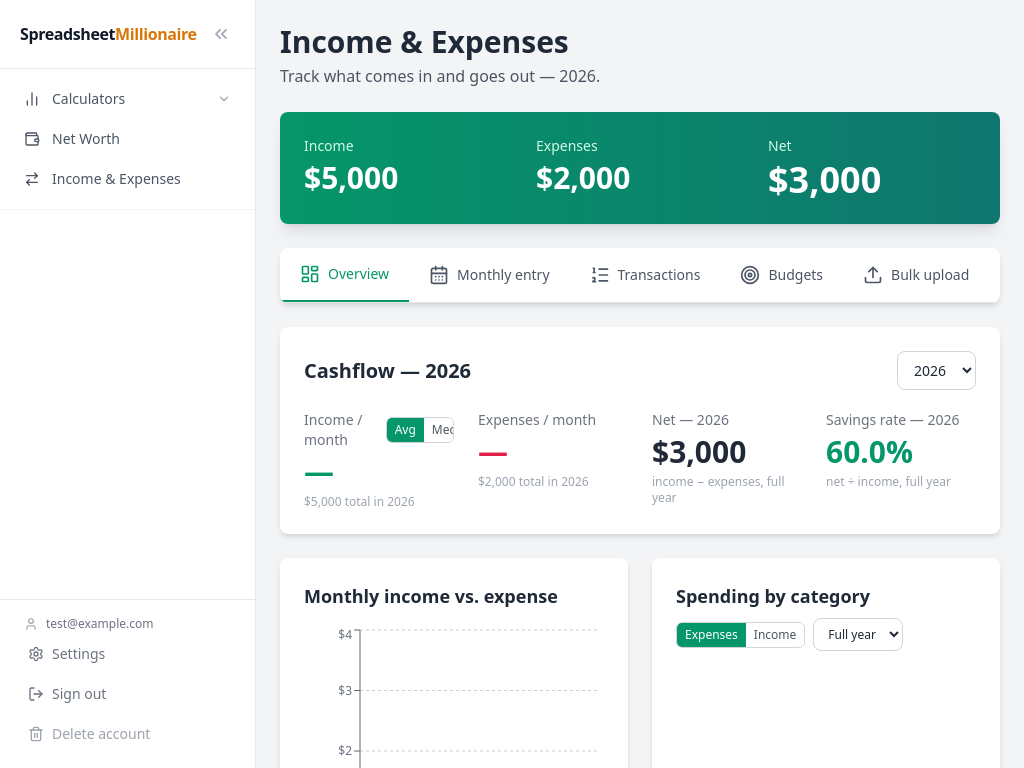
Test: IncomeExpensePage › switches to the Budgets tab and shows the coming-soon teaser
What coordinates should you click on to do the following:
click the button "Budgets"
I would click on:
 (782, 275)
Its box is [720,248,843,302].
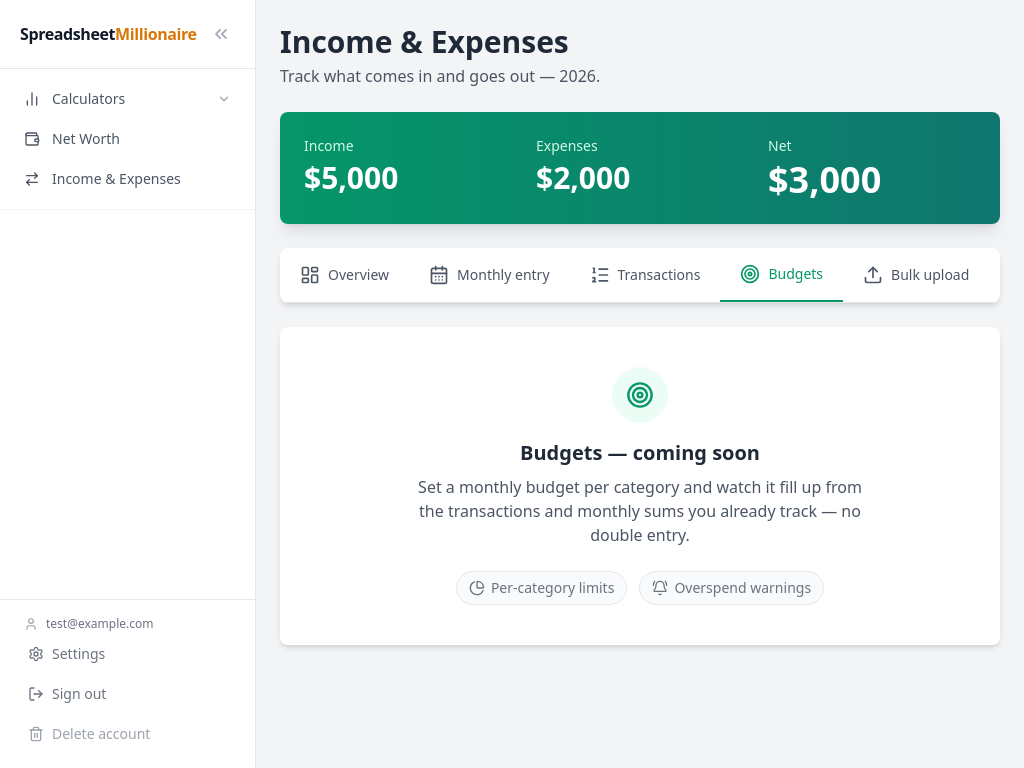
Expected: the heading "Budgets — coming soon" is shown, [520,439,760,466]
